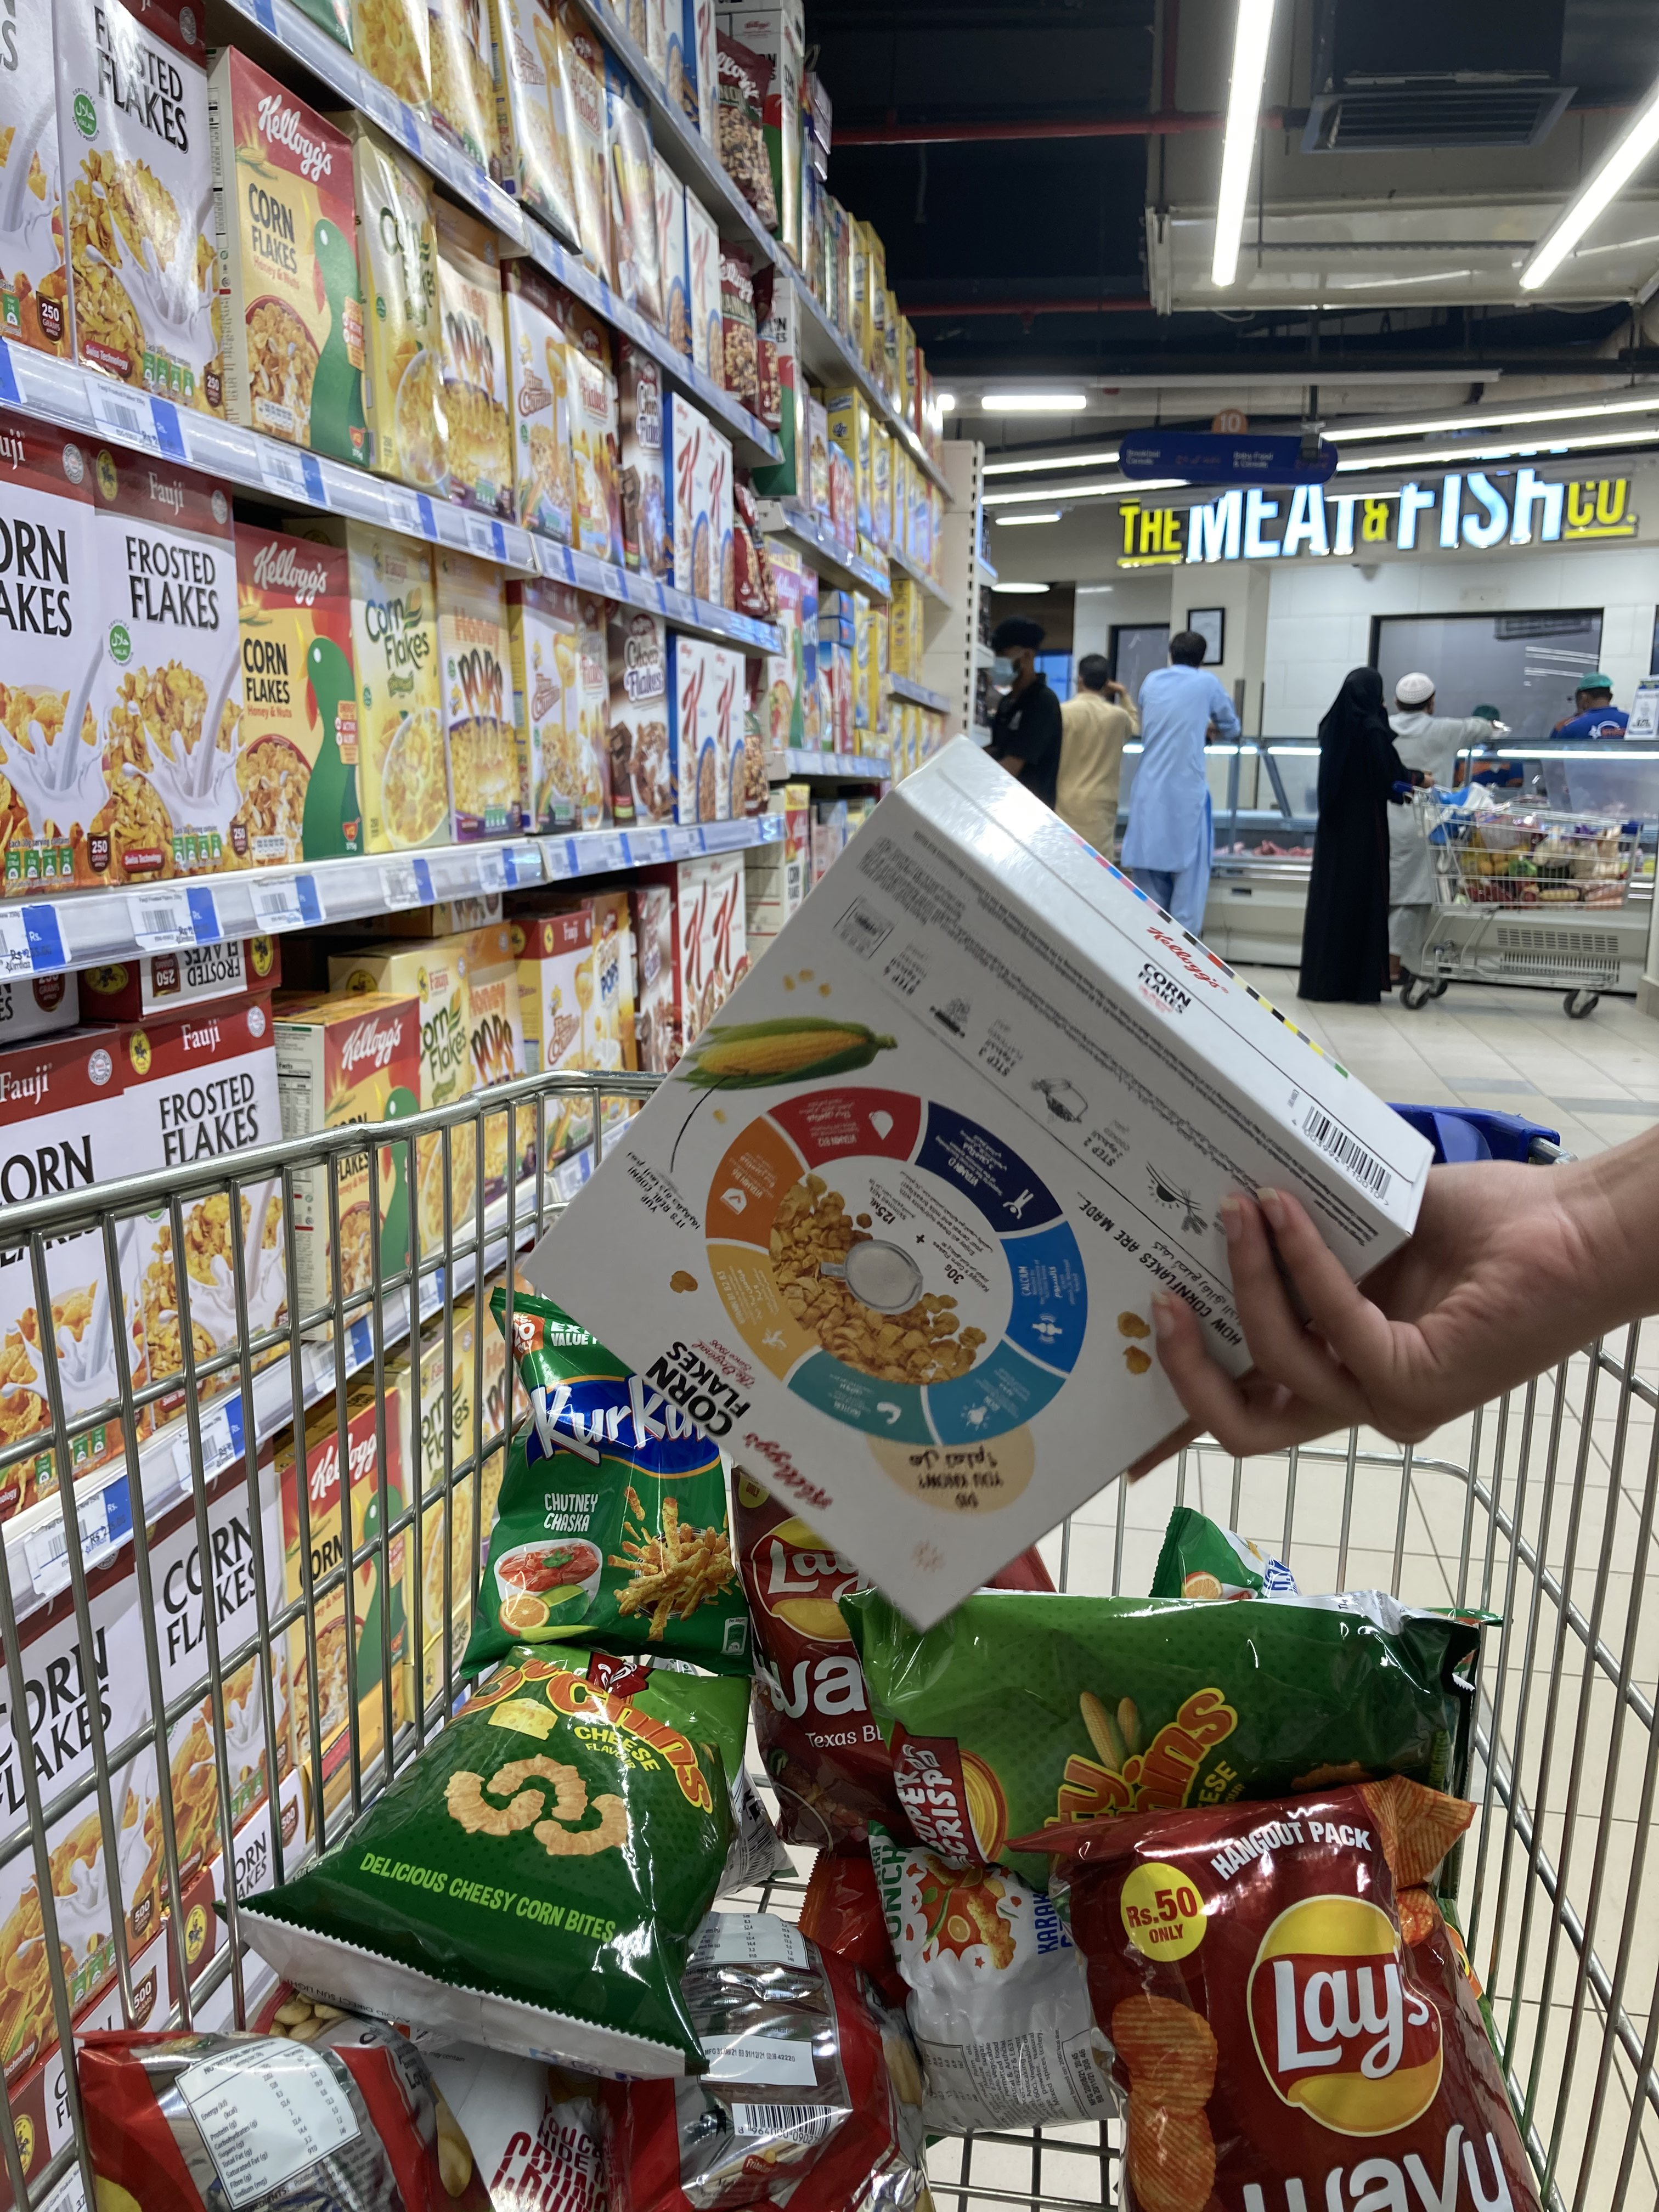Kellogg's Corn Flakes: (523, 728, 1469, 1637)
